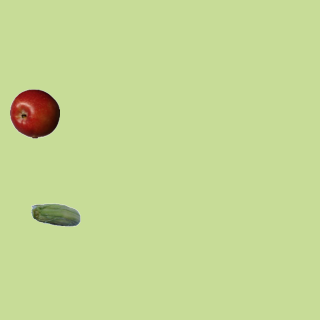Apple Braeburn: (9, 88, 59, 138)
Corn Husk: (30, 191, 80, 241)
